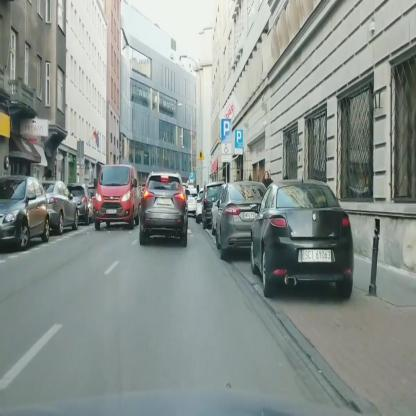cars: (251, 179, 354, 301), (215, 178, 268, 260), (0, 176, 50, 252), (139, 172, 188, 249), (94, 164, 139, 230), (38, 180, 78, 236), (65, 184, 94, 225), (202, 183, 221, 228)
